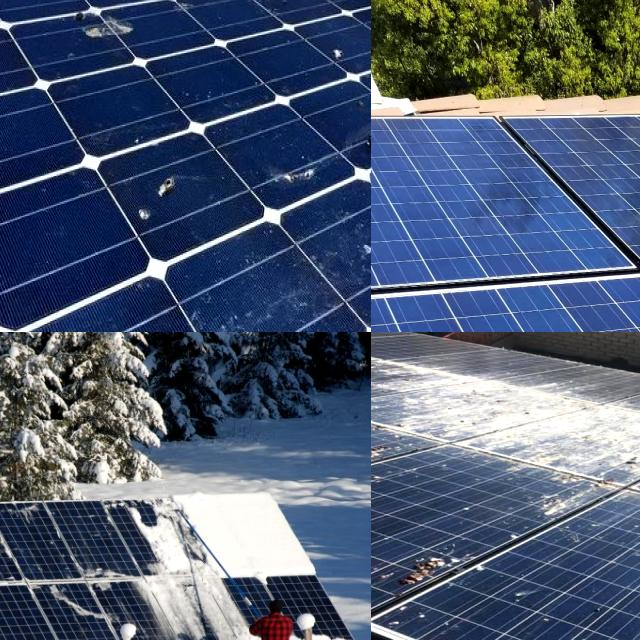bird: (371, 340, 518, 422), (534, 433, 640, 520), (114, 170, 208, 240), (246, 134, 332, 208), (391, 536, 472, 590), (371, 452, 406, 540), (70, 17, 154, 46), (340, 101, 371, 178), (340, 209, 371, 281), (266, 0, 306, 47), (324, 32, 368, 74), (529, 617, 601, 640), (72, 0, 151, 16)
crack: (566, 299, 640, 332), (508, 292, 560, 332), (371, 293, 412, 332)
panel: (183, 493, 316, 577), (110, 495, 212, 574), (126, 581, 257, 640), (40, 565, 92, 640), (0, 600, 87, 640), (0, 498, 59, 525), (295, 610, 347, 640)
